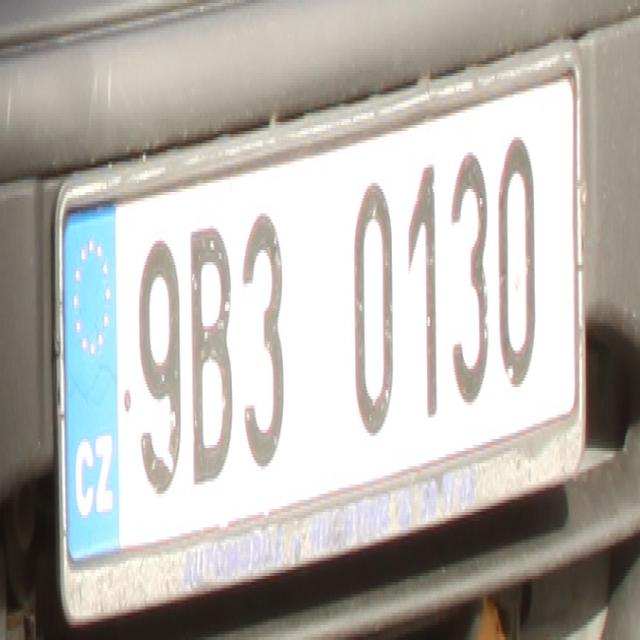0: (353, 183, 397, 436), (497, 137, 538, 399)
1: (407, 156, 442, 427)
3: (242, 208, 284, 472), (449, 147, 491, 406)
9: (132, 232, 182, 502)
B: (189, 219, 233, 494)
